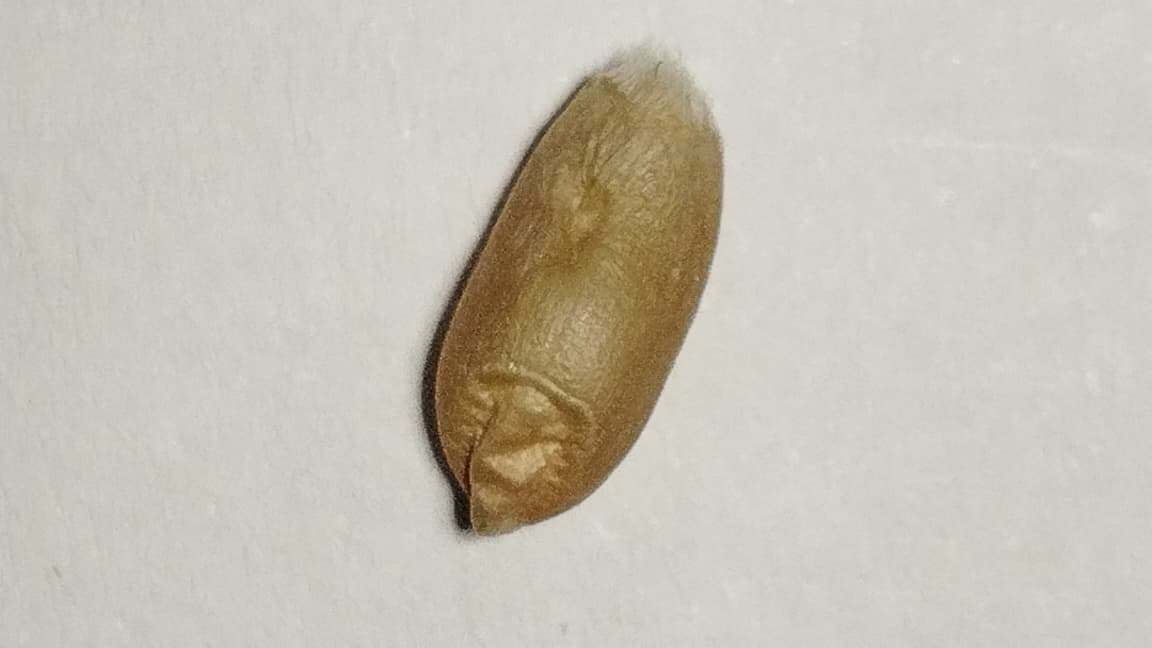healthy: (435, 62, 721, 530)
